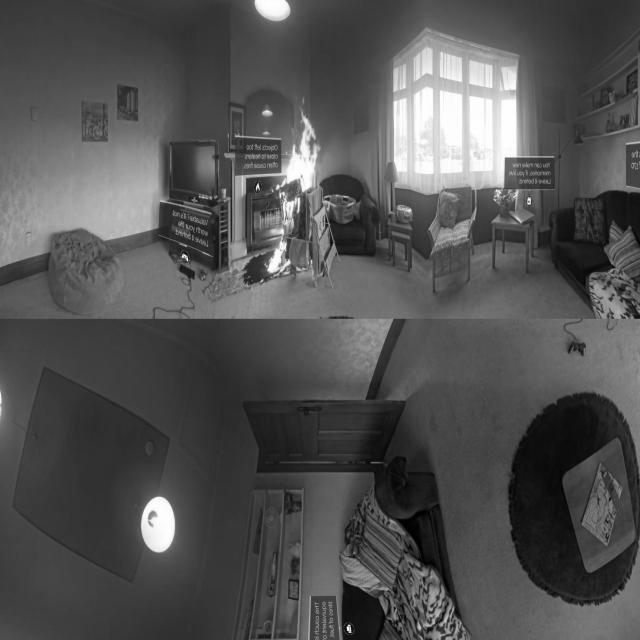smoke: (265, 92, 318, 274)
